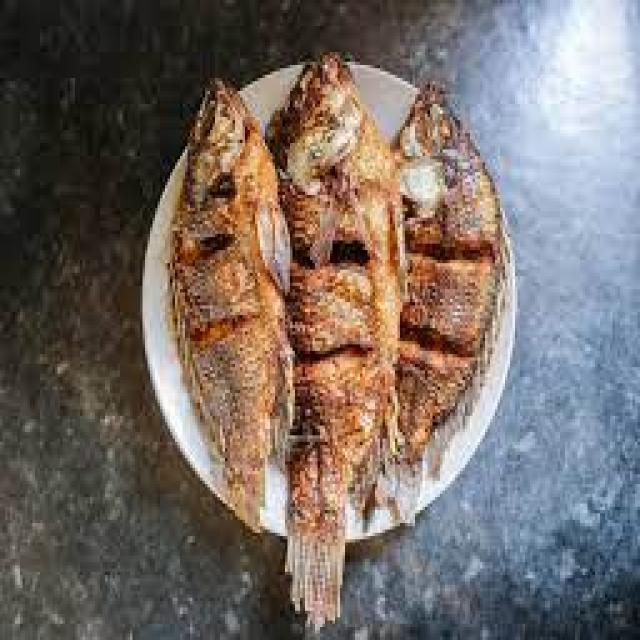Peixe: (163, 49, 505, 627), (262, 49, 408, 630), (165, 75, 295, 533), (388, 78, 502, 474)
